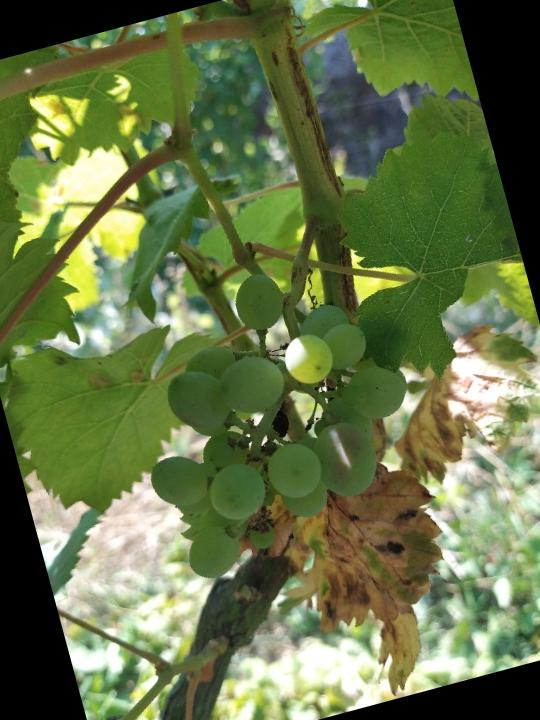grape: (102, 241, 444, 591)
